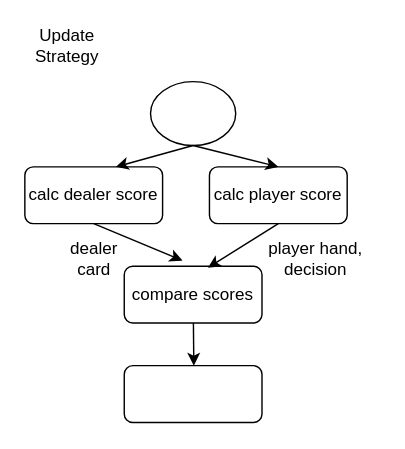
Some shapes in this 405 by 449 pixel diagram are drawn without their labels. Each missing label, with the centre of its shape:
increment hand score decision matrix: (192,393)
play: (192,113)
